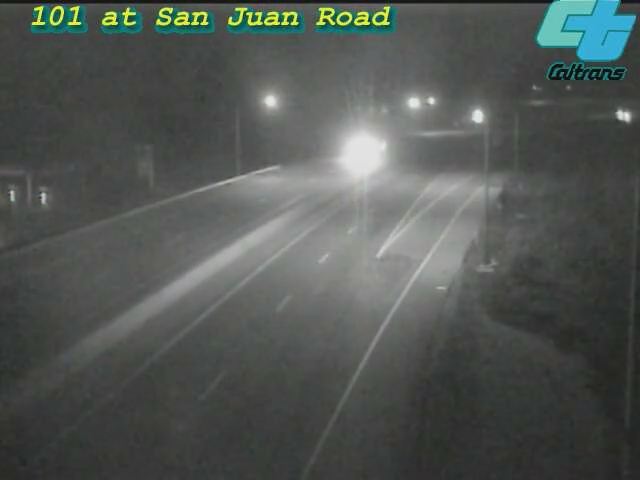vehicle: (333, 128, 383, 178), (449, 90, 499, 140), (596, 90, 640, 140)
